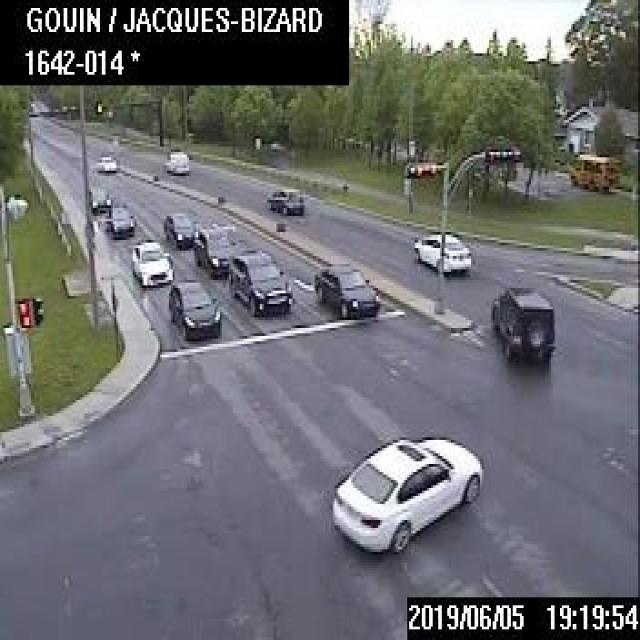bus: (568, 152, 615, 192)
vehicle: (329, 435, 482, 552), (490, 286, 553, 363), (228, 248, 292, 313), (311, 262, 380, 318), (167, 280, 220, 337), (412, 231, 470, 273), (192, 227, 234, 276), (129, 240, 172, 285), (162, 210, 195, 246), (265, 185, 303, 214), (103, 204, 134, 236), (87, 184, 110, 212), (162, 150, 189, 172), (94, 153, 115, 171)
